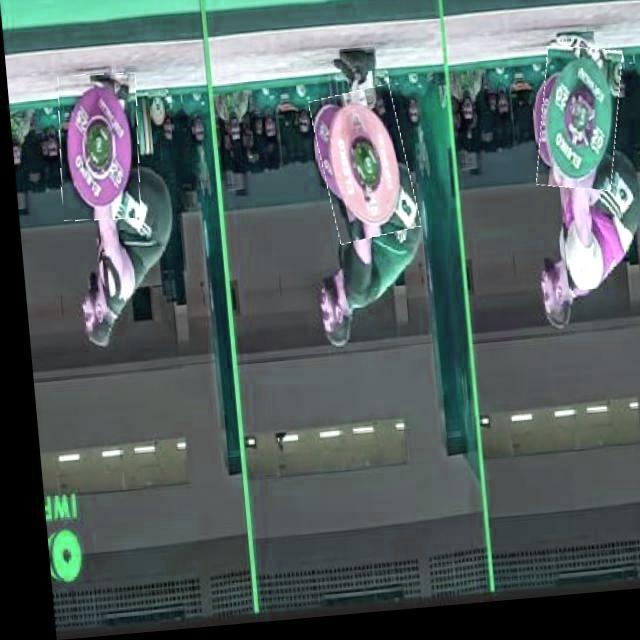barbell: (311, 93, 412, 250), (529, 55, 625, 205), (51, 74, 143, 223)
